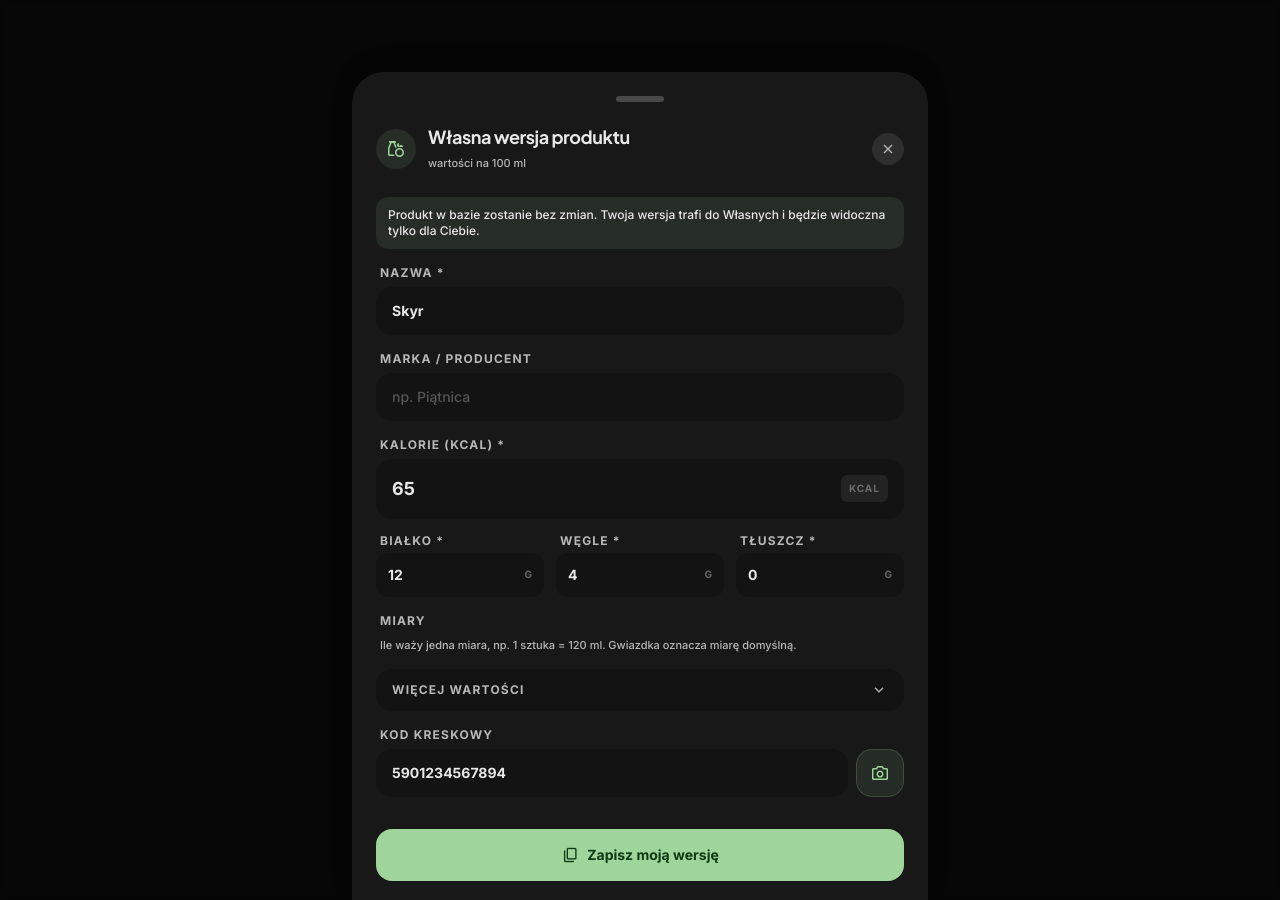
Test case: NewProductSheet layout and modes › lets an own version keep an older bar code of the base product
Expected: the text "Kod kreskowy jest nieprawidłowy." is not shown
Expected: the button "Zapisz moją wersję" is enabled, left=376, top=829, right=904, bottom=881
Replace the text in the field labelled "Kod kreskowy" with "5901234567895" at (612,773), box left=376, top=749, right=848, bottom=797
(page scrolled)
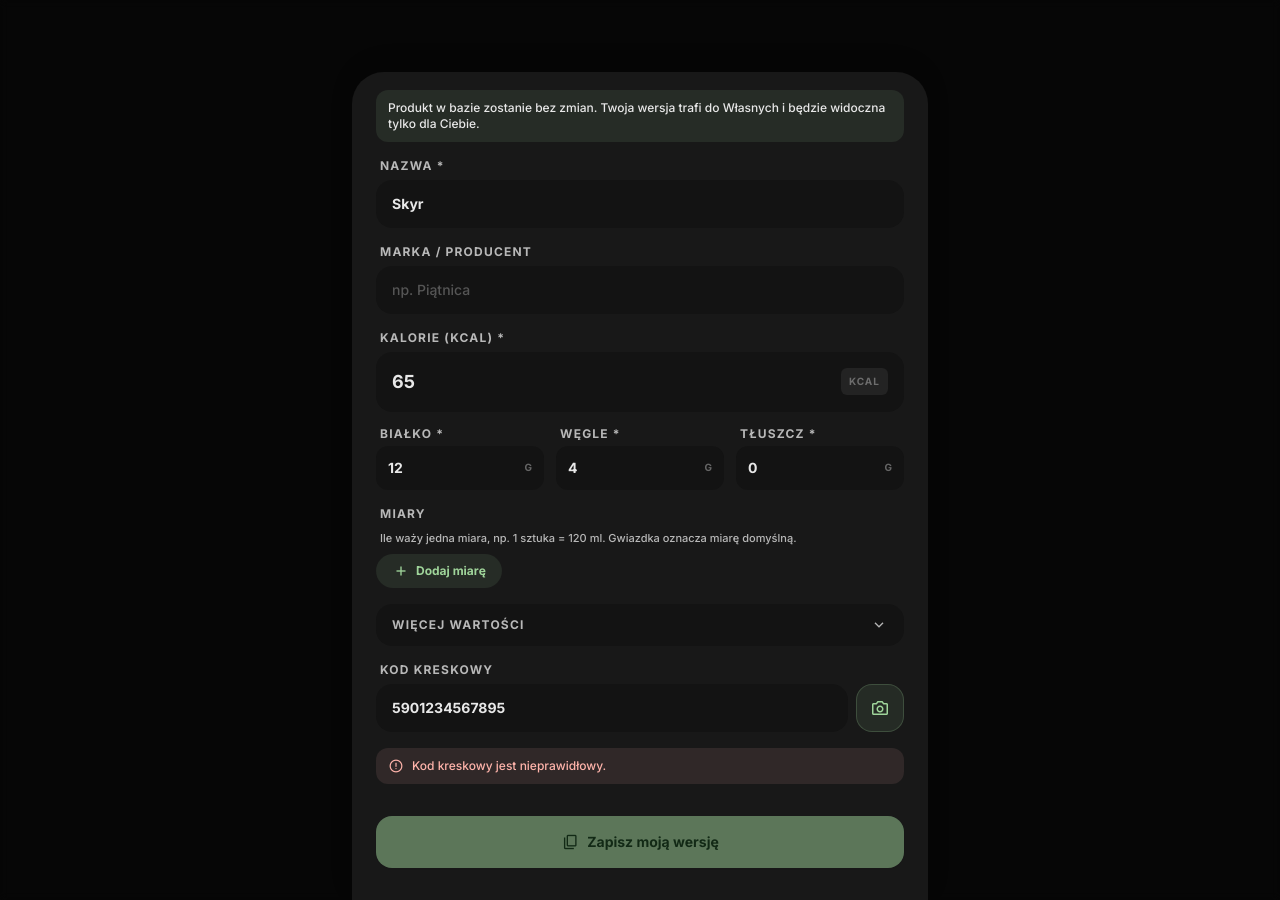
Now the button "Zapisz moją wersję" is disabled, box left=376, top=816, right=904, bottom=868
